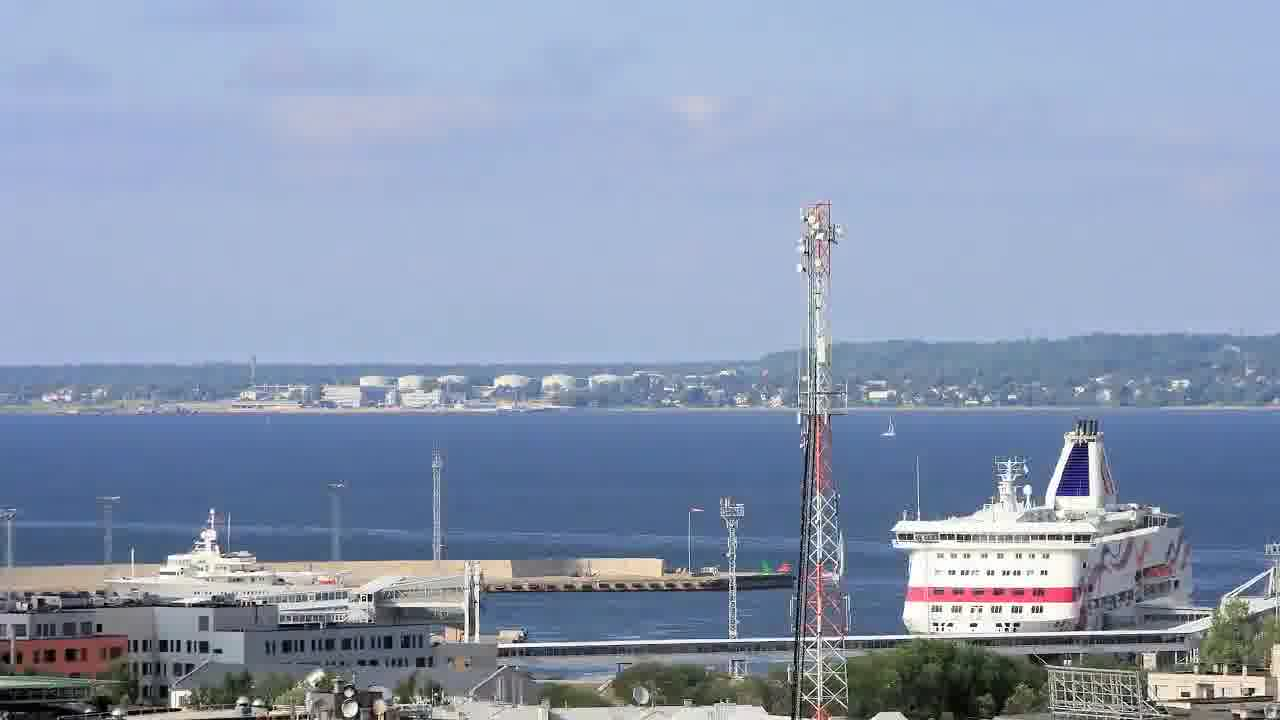type-2: (865, 409, 910, 450)
type-3: (868, 415, 1225, 638), (84, 511, 353, 609)
